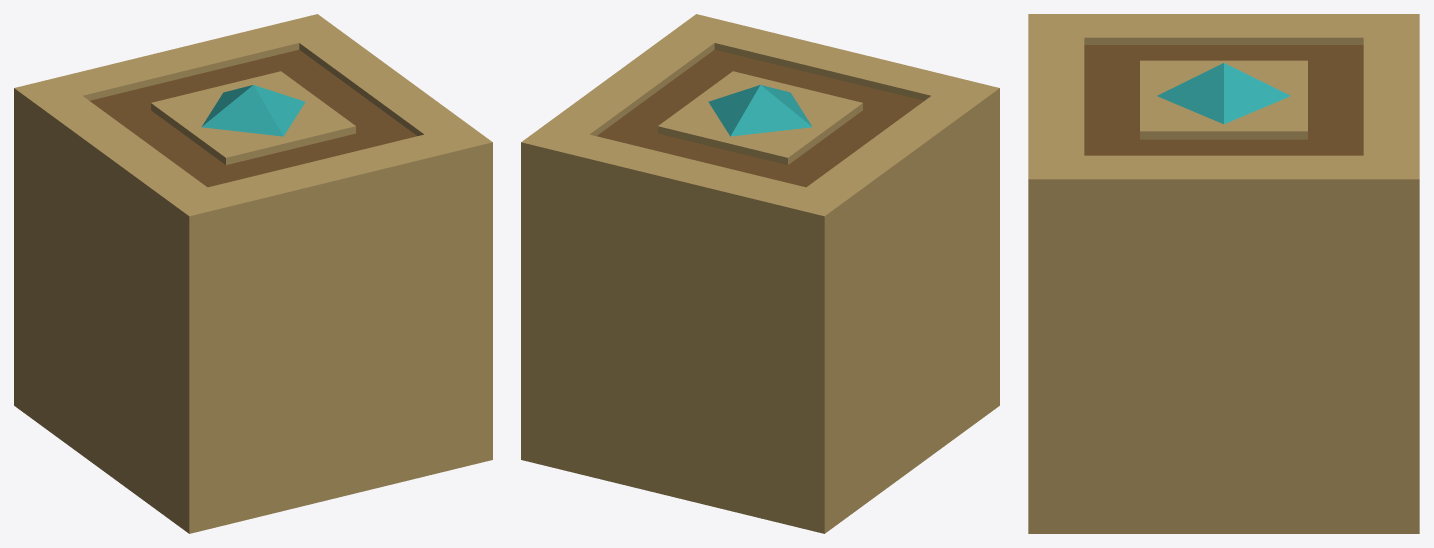
3 renders of one model, left to right at view 1: azimuth 30°, elevation 25°; view 2: azimuth 150°, elevation 25°; view 3: azimuth 270°, elevation 25°, orthographic. The views are drawn at different scales.
Visible parts, largest first — view 1: pCube37, pCube38, pCone5; view 2: pCube37, pCube38, pCone5; view 3: pCube37, pCube38, pCone5.
Part boxes in pixels (x1,y1,x2,y2): pCube37: [14, 14, 492, 533]; pCube38: [90, 49, 417, 187]; pCone5: [201, 85, 305, 136]; pCube37: [521, 14, 999, 533]; pCube38: [596, 49, 923, 187]; pCone5: [708, 85, 812, 136]; pCube37: [1028, 14, 1419, 533]; pCube38: [1084, 45, 1363, 155]; pCone5: [1157, 63, 1290, 124].
Size of the model in its own units: 1 by 1.1 by 1.
